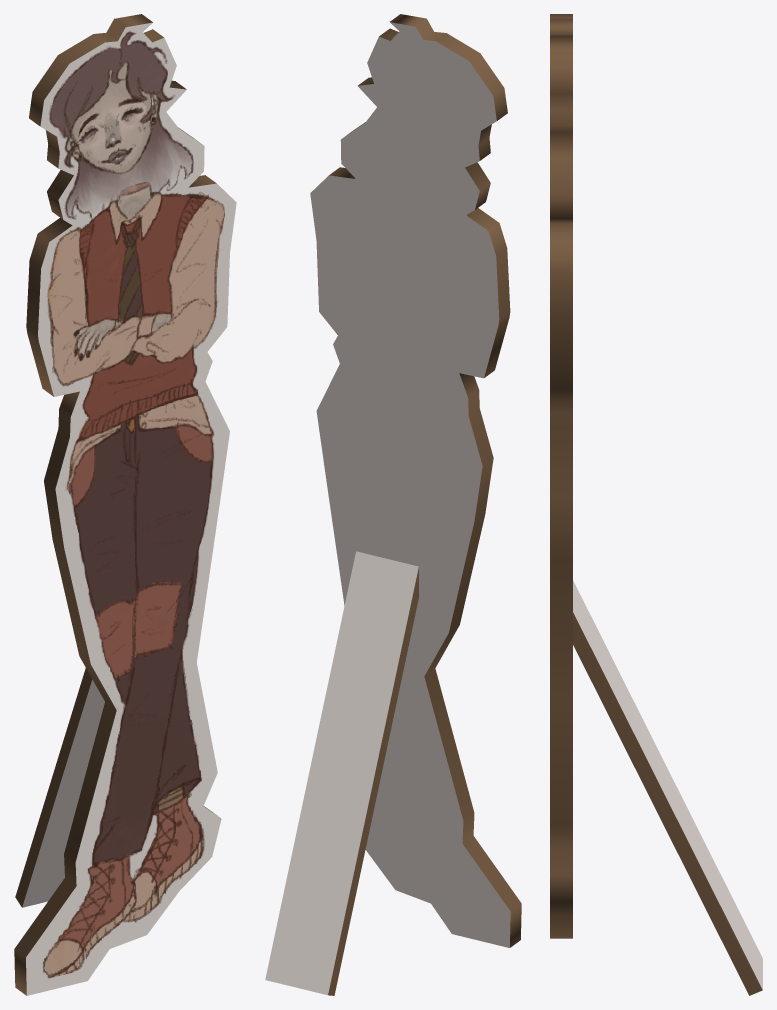
Rendered from Olov_Happy.fbx.
3 renders of one model, left to right at view 1: azimuth 30°, elevation 25°; view 2: azimuth 150°, elevation 25°; view 3: azimuth 270°, elevation 25°, orthographic. The views are drawn at different scales.
Visible parts, largest first — view 1: Olov_Happy; view 2: Olov_Happy; view 3: Olov_Happy.
Boxes of the visible parts, x1=… form: Olov_Happy: x1=14, y1=14, x2=236, y2=995; Olov_Happy: x1=265, y1=14, x2=521, y2=995; Olov_Happy: x1=550, y1=14, x2=762, y2=995.
Size of the model in its own units: 44.4 by 192 by 39.1.
Materials: 1 (1 with a texture image).
